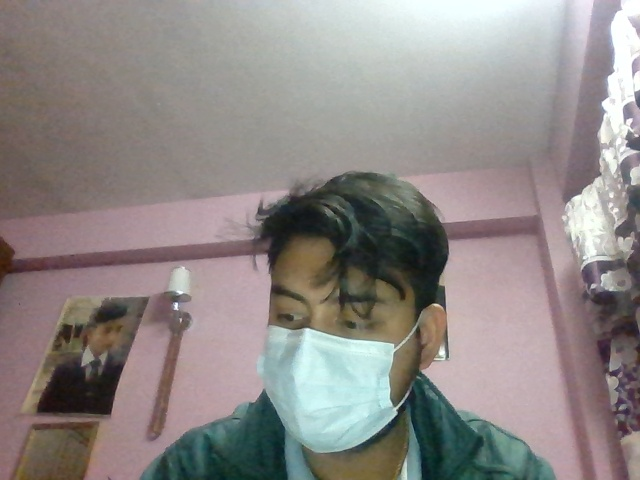mask: (263, 325, 433, 453)
